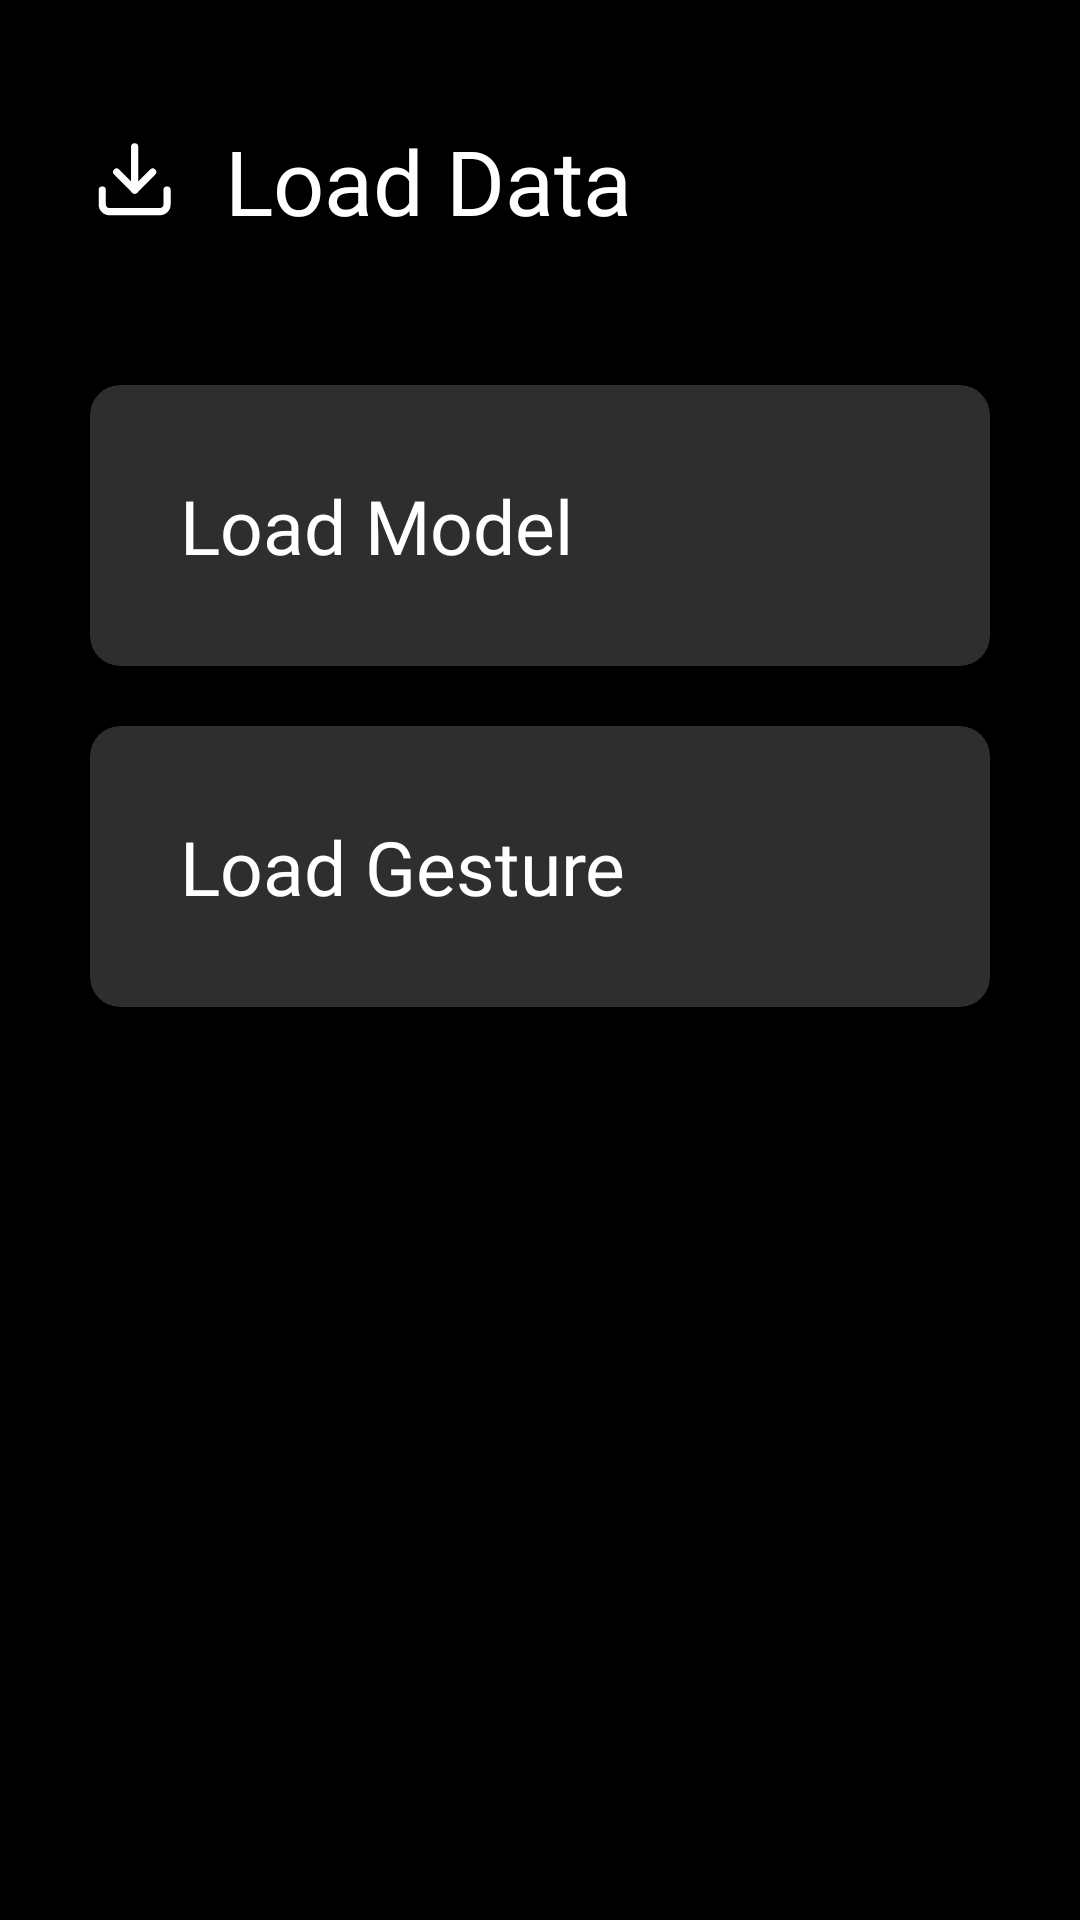

Icon bounding boxes for this 1080px×1920px phone screenshot, format (x1, y1, x2, y2):
download: (98, 143, 171, 216)
